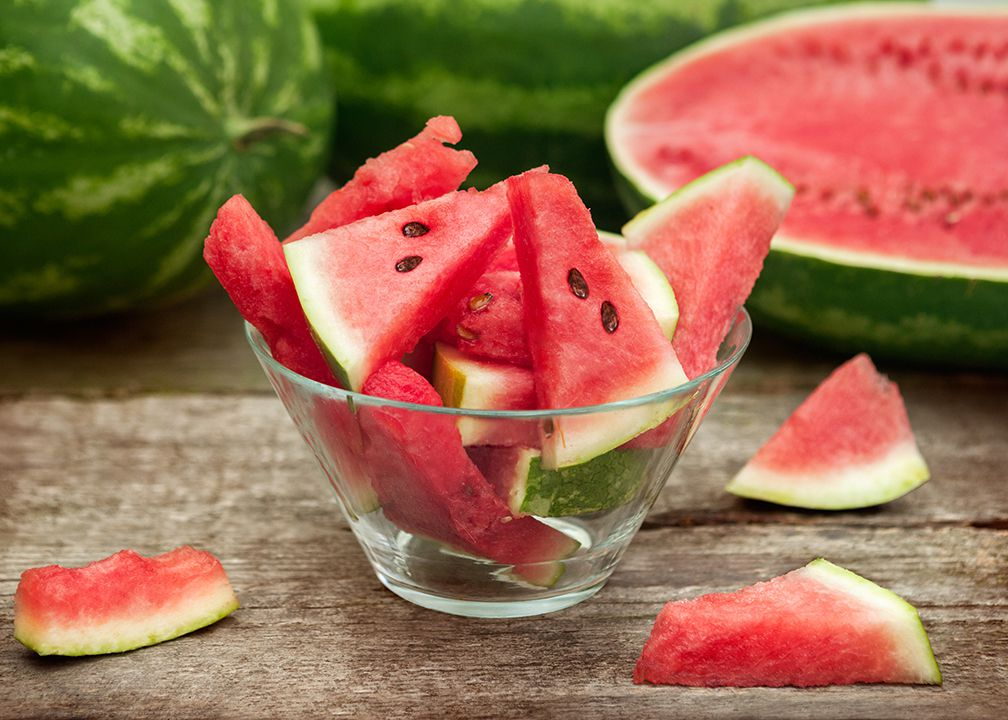Semangka: (607, 541, 925, 711), (277, 163, 503, 349), (692, 330, 925, 510), (495, 172, 626, 458)
